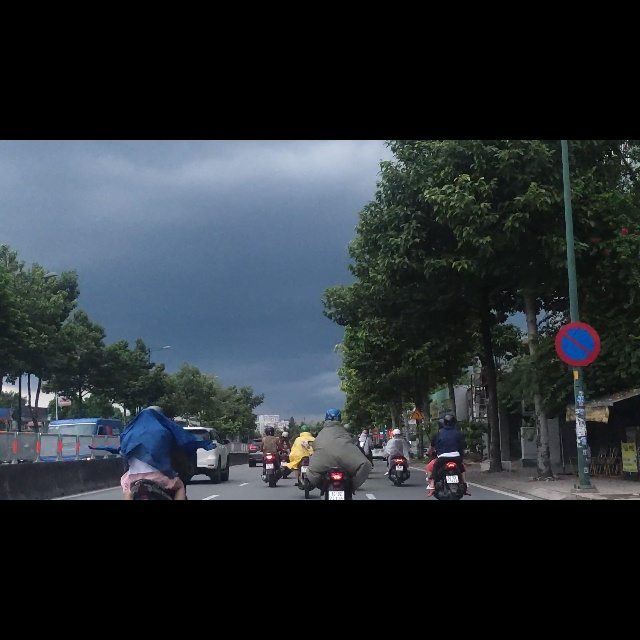bien_hieu_lenh: (555, 322, 601, 404), (410, 476, 425, 498)
